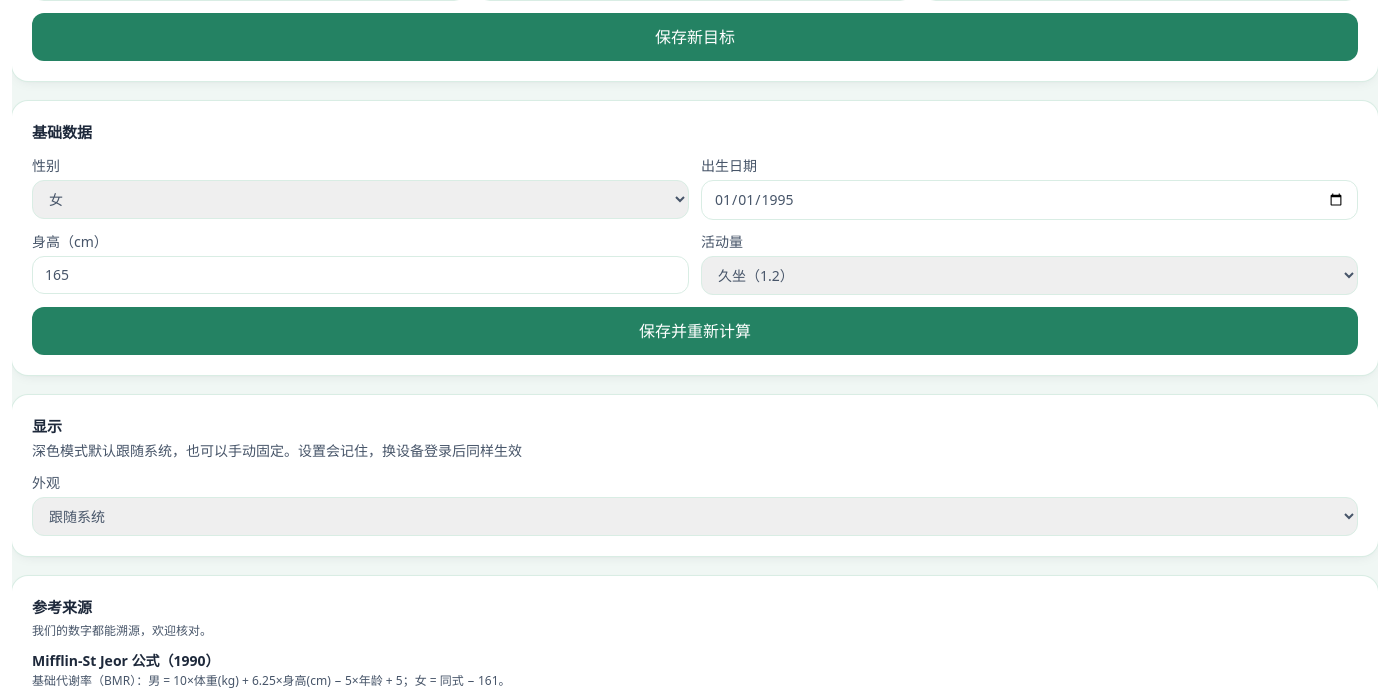
Test: 改基础资料 · 预算派生数据重取 › ★ 保存后屏上的「建议摄入」变成服务端重算值，且看板 / 体重进度被重取
(page scrolled)
Step 1. Click the button "保存并重新计算" → x=695, y=330, box [32, 306, 1358, 354]
(page scrolled)
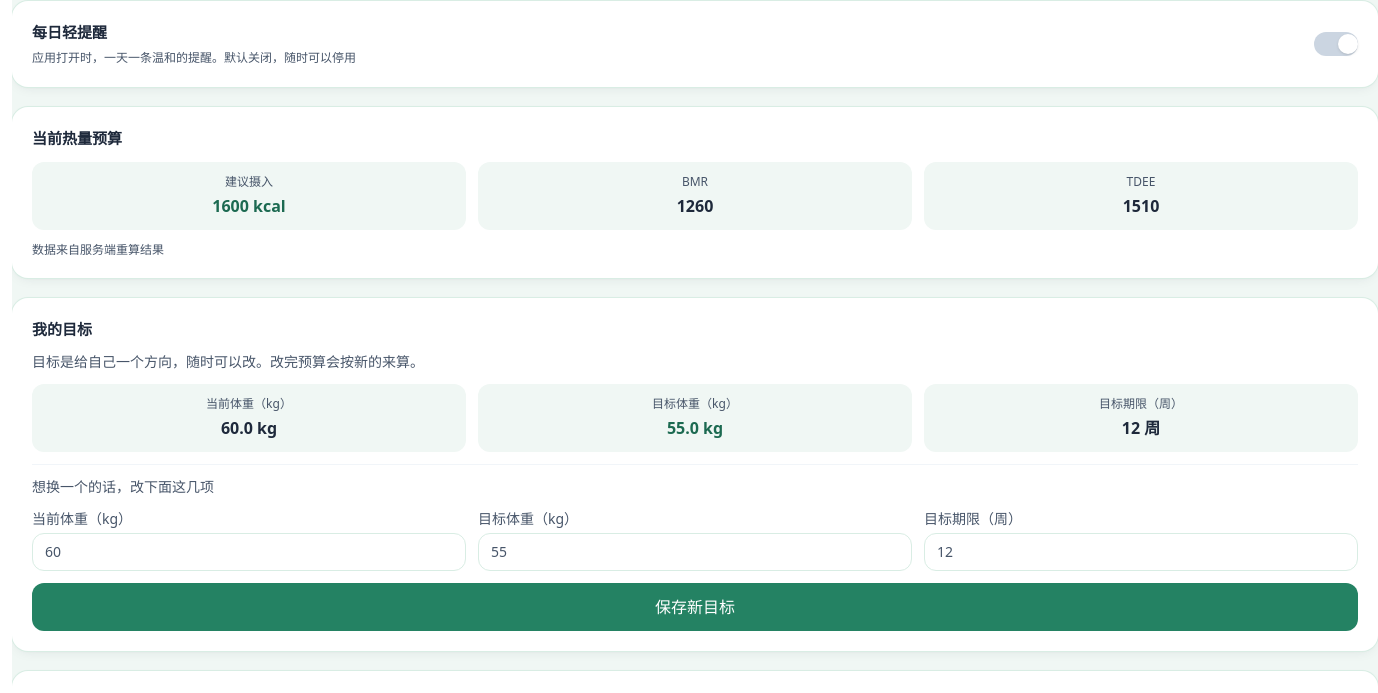
expect the text "1600 kcal" is shown: met, box [212, 194, 286, 216]
